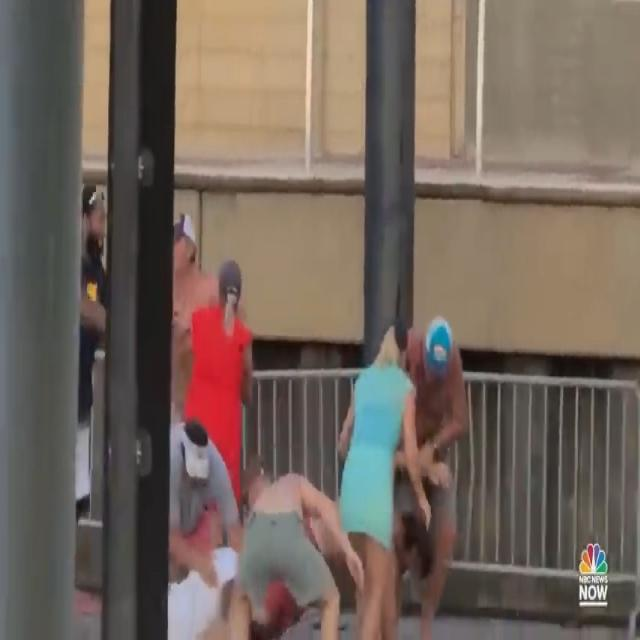fight: (79, 170, 476, 640)
